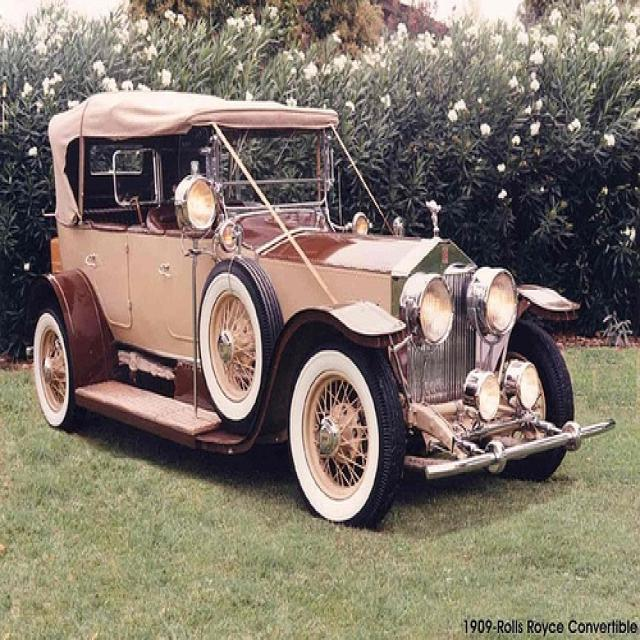car: (33, 81, 617, 529)
